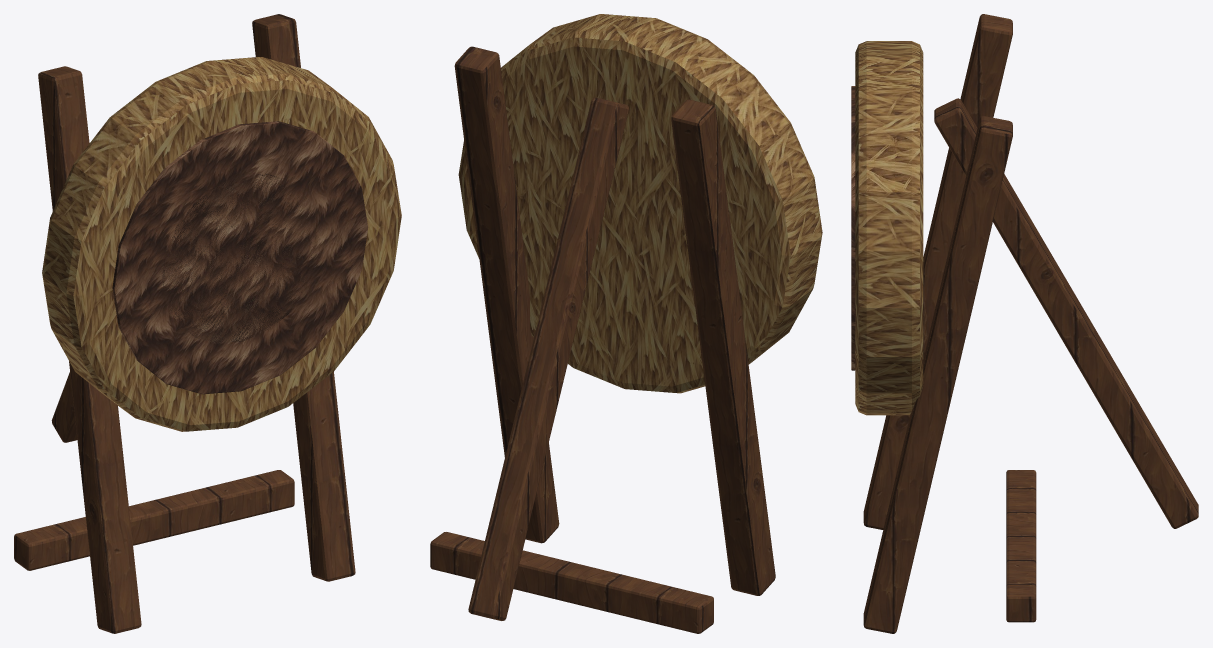
The model's file is archery_target__plank_root.glb.
3 renders of one model, left to right at view 1: azimuth 30°, elevation 25°; view 2: azimuth 150°, elevation 25°; view 3: azimuth 270°, elevation 25°, orthographic. The views are drawn at different scales.
Parts seen in each view (by area): view 1: model; view 2: model; view 3: model.
Boxes of the visible parts, x1,y1,x2,y2 form: model: (14, 14, 401, 633); model: (430, 14, 822, 633); model: (851, 14, 1198, 633).
Bounding box in the file's own units: 1 × 1.52 × 0.9216.
Materials: 4 (4 with a texture image).
